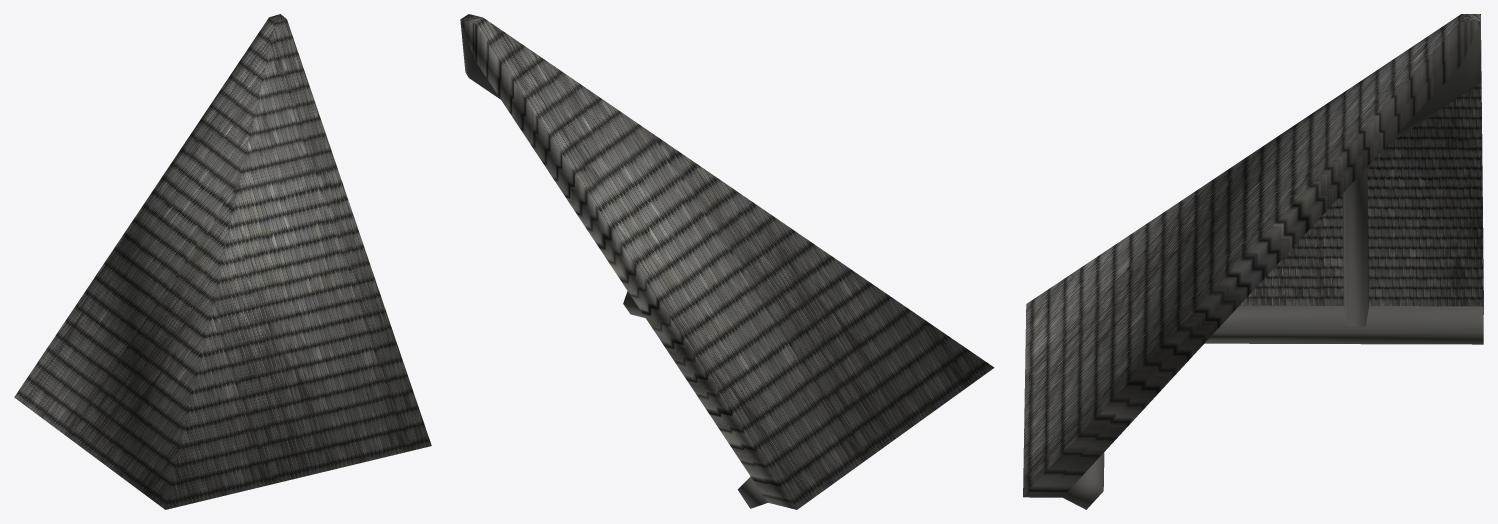
File: ROOF CORNER.fbx
3 renders of one model, left to right at view 1: azimuth 30°, elevation 25°; view 2: azimuth 150°, elevation 25°; view 3: azimuth 270°, elevation 25°, orthographic. The views are drawn at different scales.
Parts seen in each view (by area): view 1: RoofCorner; view 2: RoofCorner; view 3: RoofCorner.
Boxes of the visible parts, x1=… form: RoofCorner: x1=14, y1=14, x2=431, y2=509; RoofCorner: x1=460, y1=14, x2=994, y2=509; RoofCorner: x1=1023, y1=14, x2=1483, y2=509.
Bounding box in the file's own units: 263 × 308 × 263.
